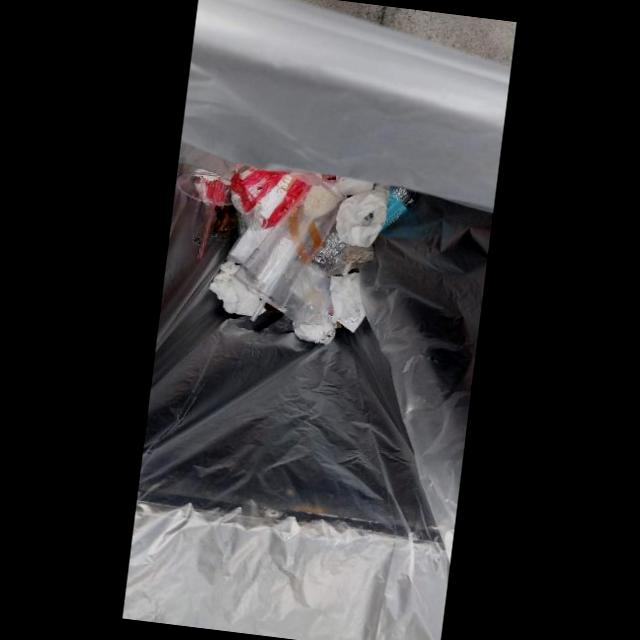giay: (336, 183, 390, 247), (209, 262, 259, 315), (292, 321, 337, 344)
hop_nhua: (231, 181, 347, 312)
ong_hut_nhua: (197, 177, 222, 258), (249, 299, 265, 321)
tui_ni_long: (230, 165, 332, 230)
